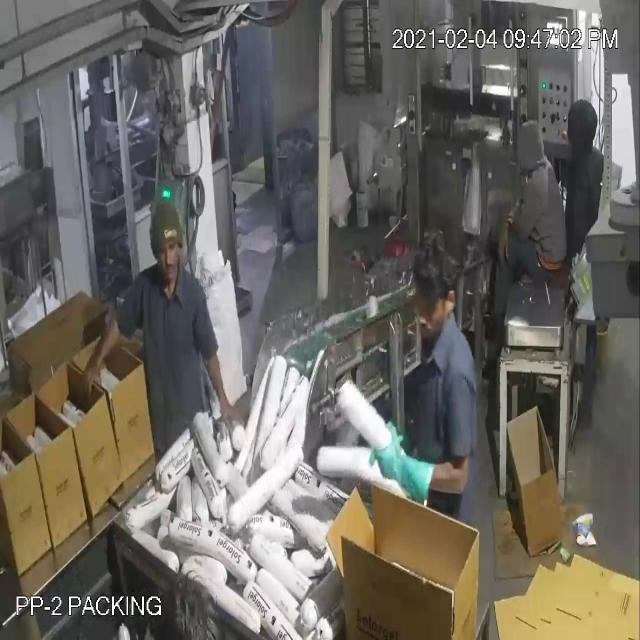No_Gloves: (61, 94, 403, 464)
